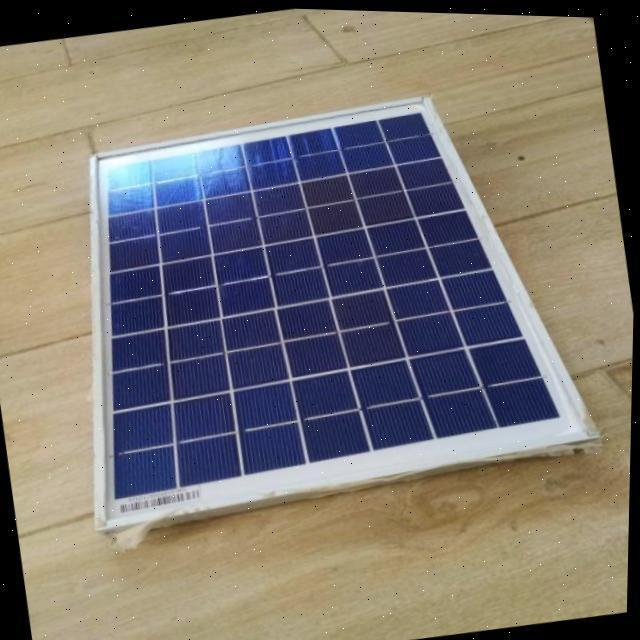Normal Solar Panel: (47, 68, 608, 539)
